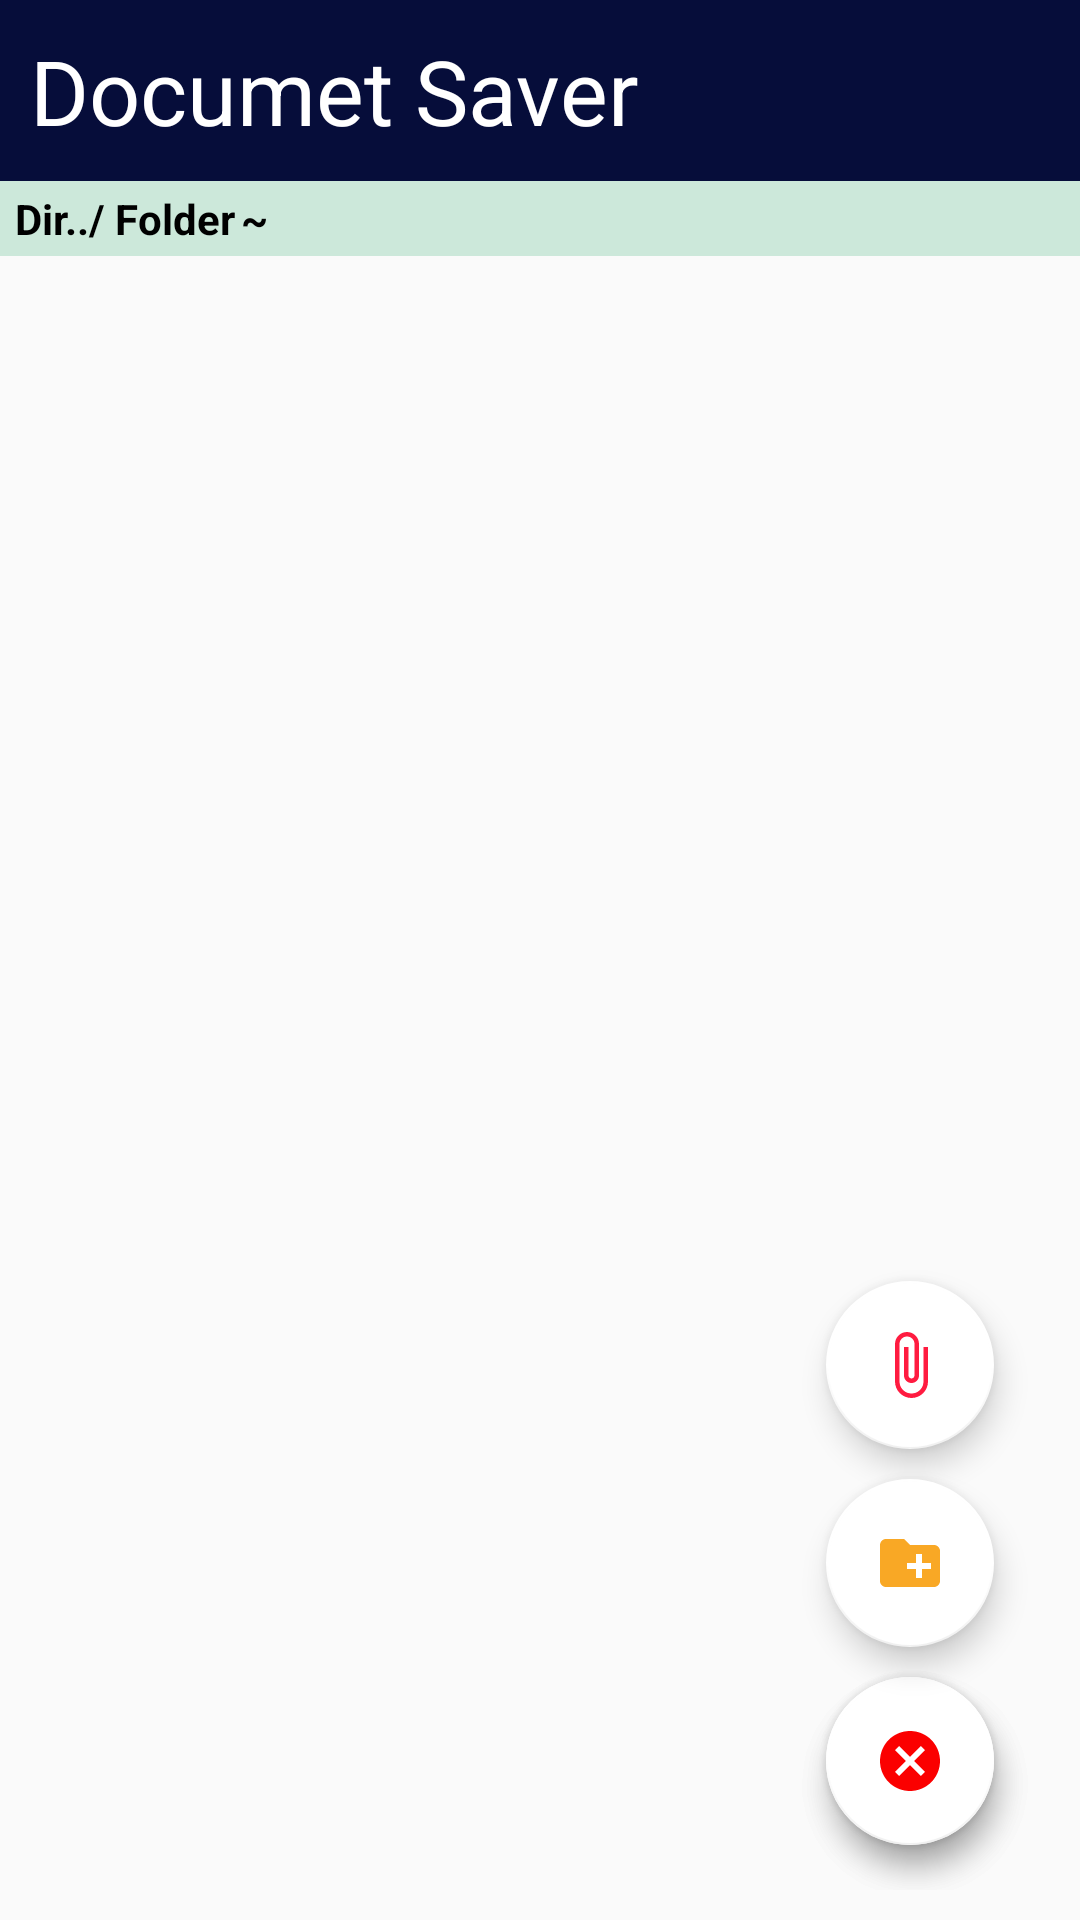

Icons on this 1080px×1920px Android screen, each with the point to tap as [x,y]:
attach file: [913,1390]
folder: [910,1563]
